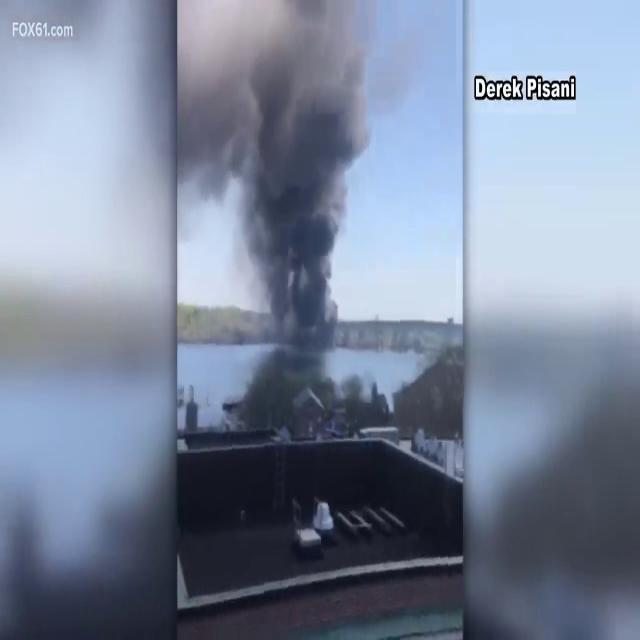Smoke: (178, 2, 382, 346)
